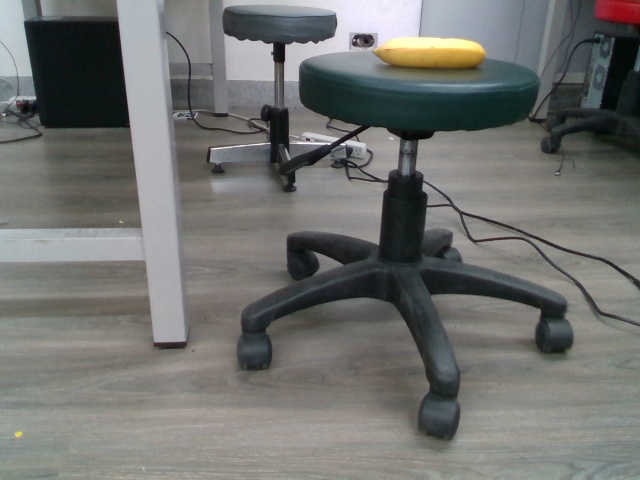banana: (371, 33, 487, 72)
